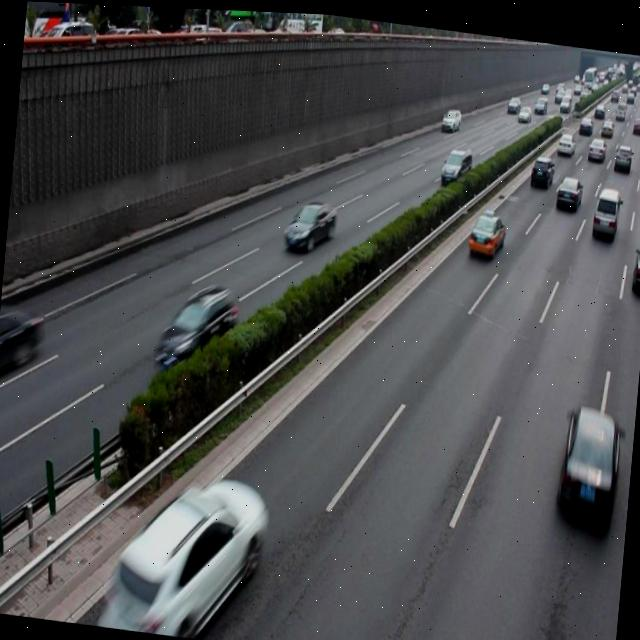car: (104, 464, 268, 640), (554, 396, 622, 529), (152, 276, 237, 382), (282, 193, 336, 253), (466, 205, 504, 256), (554, 167, 582, 206), (627, 234, 640, 289)
truck: (589, 180, 618, 235), (438, 140, 472, 183)
